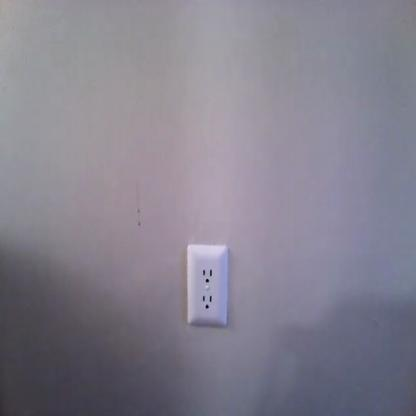OUTLET: (186, 242, 228, 328)
